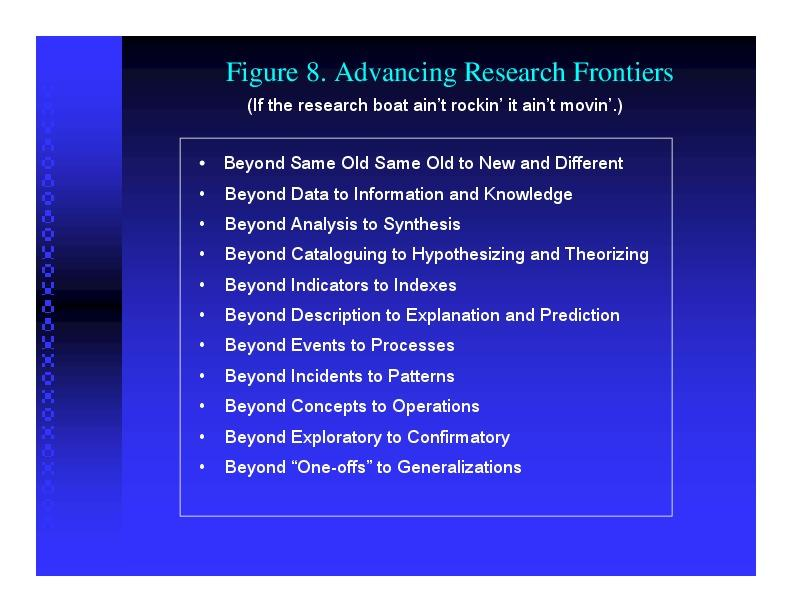paragraph: (171, 132, 687, 527)
title: (204, 48, 678, 125)
